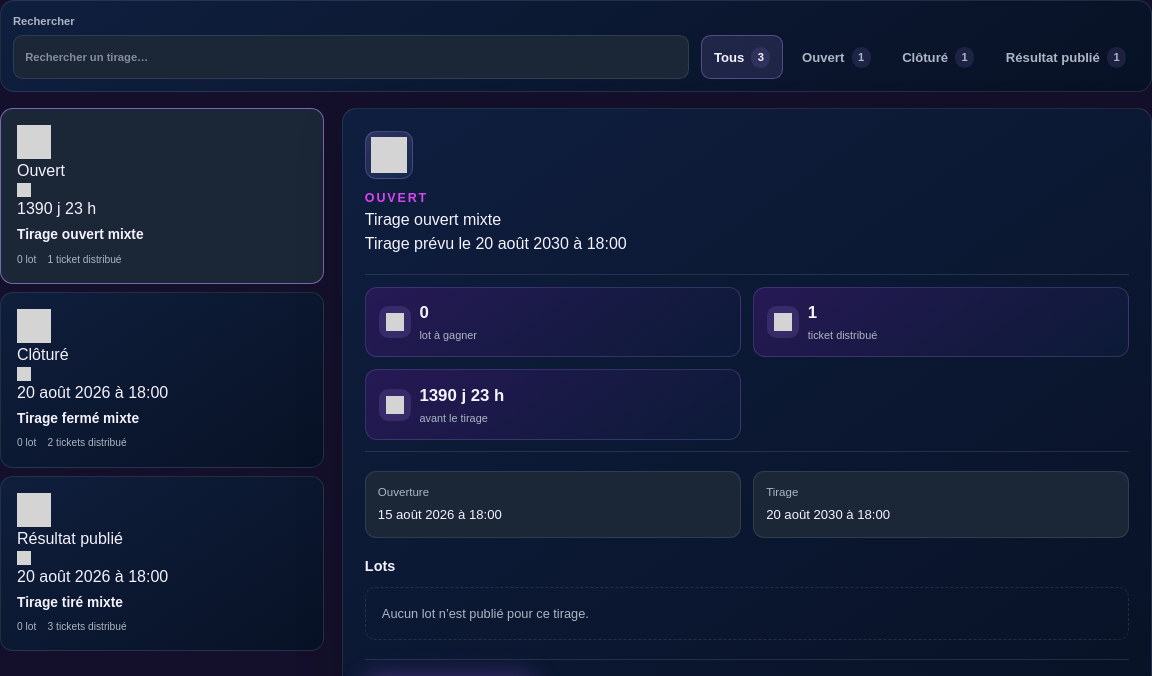
ListeTirages › filtre correctement un ensemble mixte ouvert, clôturé et publié
Click the button "Clôturé 1": (938,57) [889, 35, 987, 79]
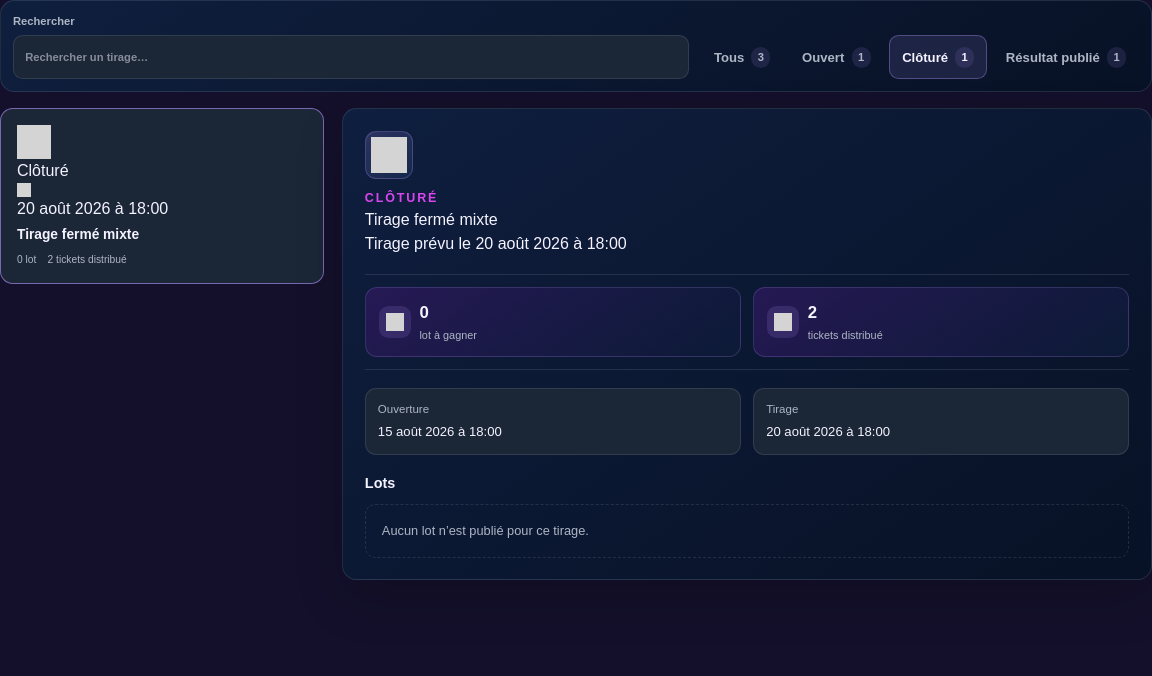
Expected: the text "Tirage fermé mixte" is shown, [17, 227, 139, 242]
Now the button "Tirage ouvert mixte" is gone
Click the button "Résultat publié 1": (1066,57) [993, 35, 1139, 79]
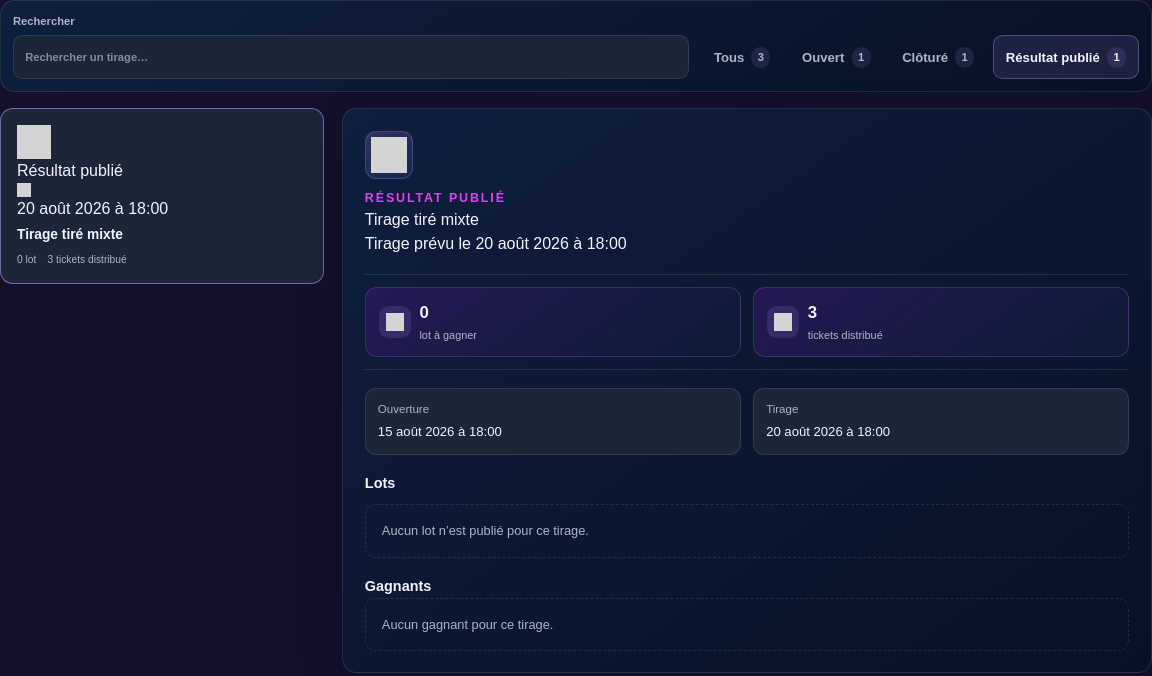
Now the text "Tirage tiré mixte" is shown, box [17, 227, 123, 242]
Now the button "Tirage fermé mixte" is gone
